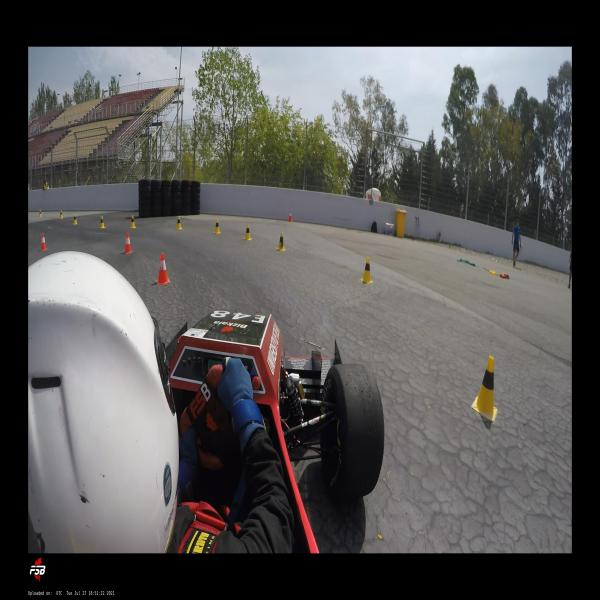orange_cone: (157, 253, 170, 284), (122, 232, 133, 254), (40, 233, 48, 251), (287, 211, 293, 222)
yellow_cone: (472, 355, 498, 422), (360, 256, 374, 284), (276, 232, 286, 252), (242, 224, 252, 240), (213, 219, 221, 234), (176, 215, 183, 230), (99, 215, 106, 229), (129, 215, 136, 229), (72, 214, 78, 224), (60, 210, 63, 219), (39, 209, 42, 217)
